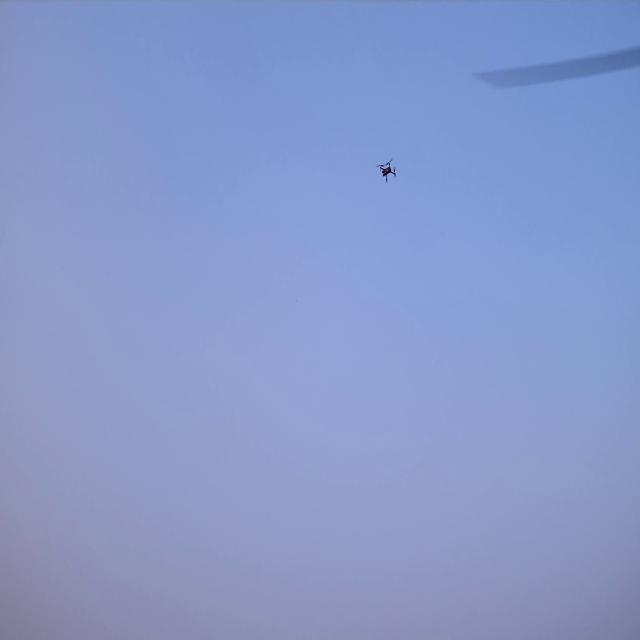UAV: (380, 161, 395, 182)
